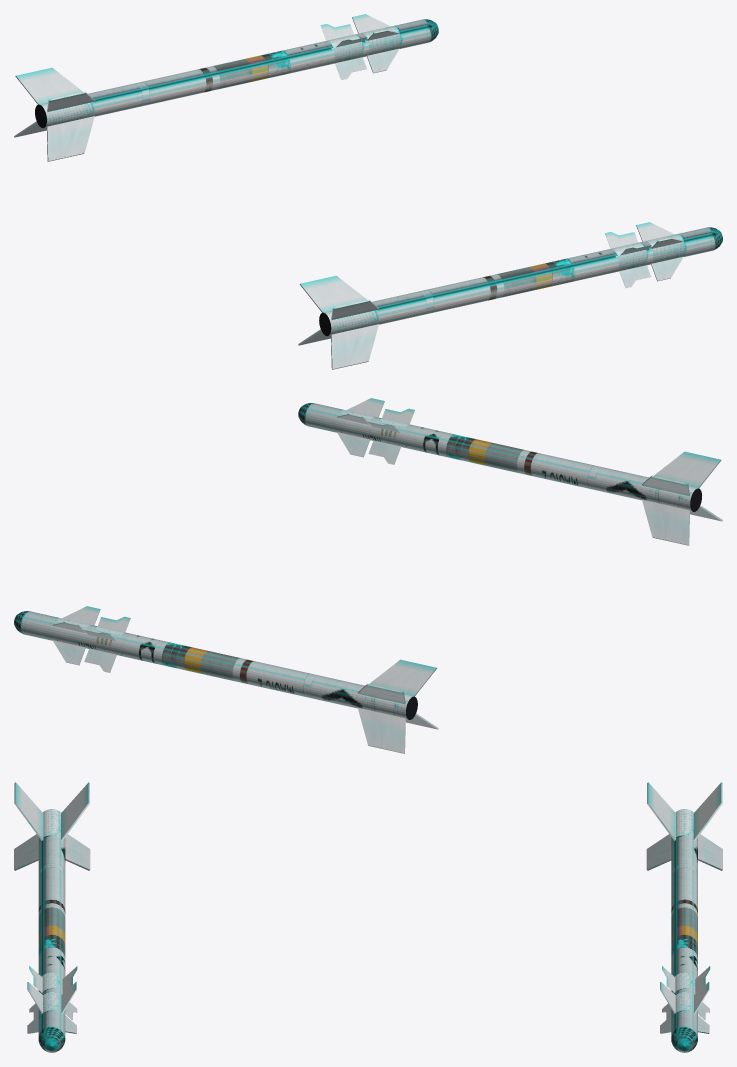
File: rafaler55047.glb
3 renders of one model, top to bottom at view 1: azimuth 30°, elevation 25°; view 2: azimuth 150°, elevation 25°; view 3: azimuth 270°, elevation 25°, orthographic. The views are drawn at different scales.
Visible parts, largest first — view 1: 立方体.016, 立方体.015; view 2: 立方体.015, 立方体.016; view 3: 立方体.016, 立方体.015.
Part boxes in pixels (left/top/right/bottom): 立方体.016: left=298, top=222, right=722, bottom=369; 立方体.015: left=14, top=14, right=438, bottom=161; 立方体.015: left=14, top=606, right=438, bottom=753; 立方体.016: left=298, top=398, right=722, bottom=545; 立方体.016: left=14, top=782, right=90, bottom=1052; 立方体.015: left=646, top=782, right=722, bottom=1052.
Bounding box in the file's own units: 3.19 × 0.4688 × 4.32.
Materials: 2 (2 with a texture image).
